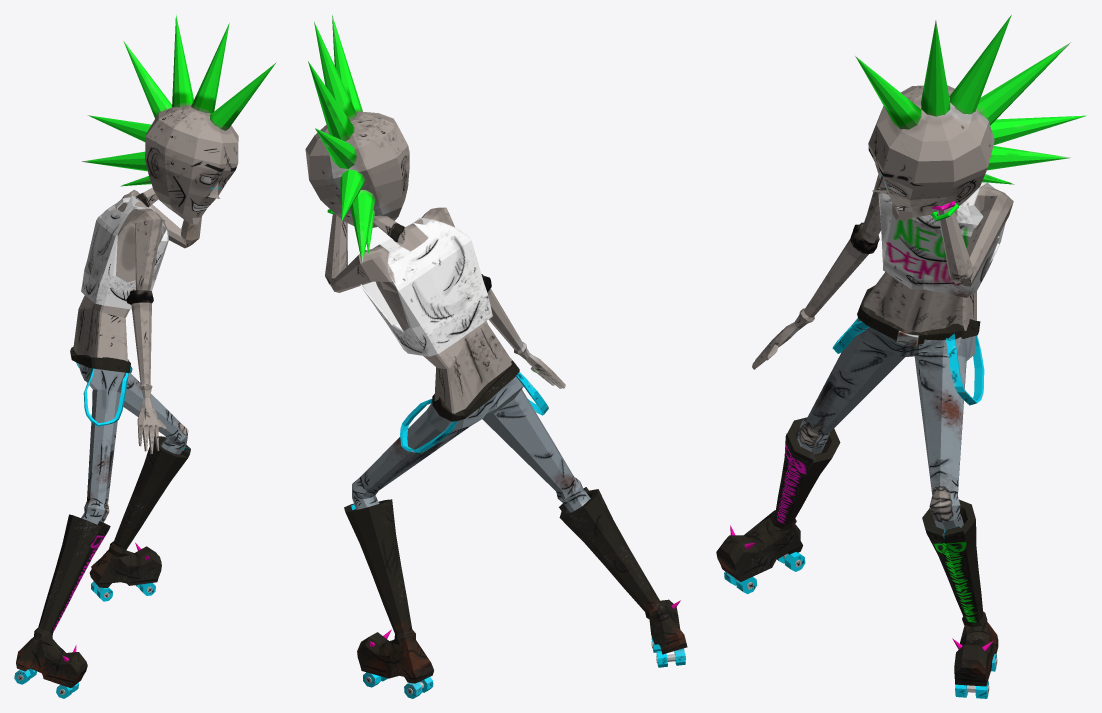
File: punkAnimation_000038.obj
3 views of the same model, side by side, from view 1: azimuth 30°, elevation 25°; view 2: azimuth 150°, elevation 25°; view 3: azimuth 270°, elevation 25° (orthographic). The views are drawn at different scales.
Visible parts, largest first — view 1: Cube.004_Cube.003; view 2: Cube.004_Cube.003; view 3: Cube.004_Cube.003.
Part boxes in pixels (x1,y1,x2,y2): Cube.004_Cube.003: (14,15,276,698); Cube.004_Cube.003: (305,15,687,698); Cube.004_Cube.003: (716,15,1086,698).
Bounding box in the file's own units: 3.6 × 6.7 × 3.13.
